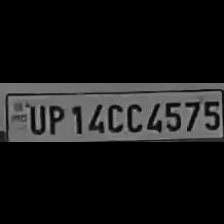1: (68, 100, 84, 134)
4: (85, 100, 105, 132), (144, 98, 162, 132)
5: (200, 97, 222, 129), (161, 97, 181, 130)
7: (181, 97, 199, 131)
C: (104, 98, 124, 132), (124, 100, 142, 132)
P: (44, 101, 66, 135)
U: (24, 102, 46, 134)
